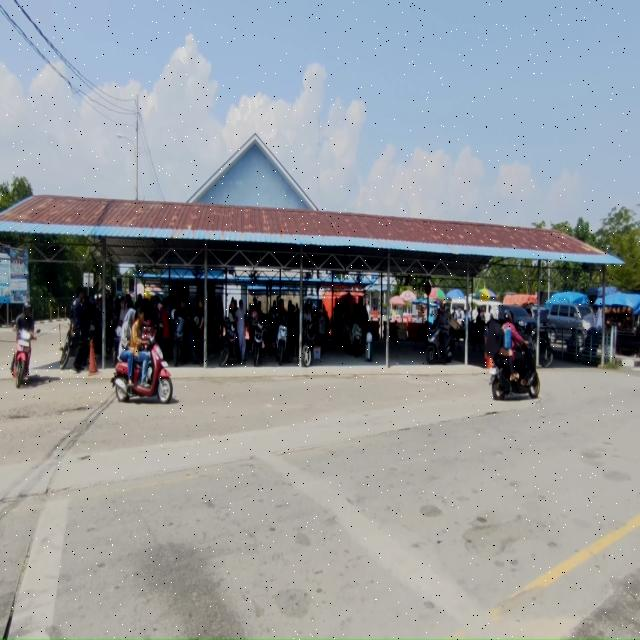Golongan II: (111, 338, 173, 404), (490, 342, 540, 400), (12, 329, 40, 388), (526, 325, 554, 368), (426, 325, 454, 364), (219, 319, 241, 367), (60, 322, 76, 370), (251, 320, 267, 366), (302, 322, 317, 367), (172, 316, 185, 367), (348, 322, 362, 358), (276, 324, 288, 365), (112, 321, 122, 365), (340, 318, 352, 352)
